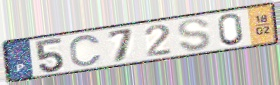0: (217, 12, 246, 47)
2: (144, 23, 173, 58)
5: (33, 36, 66, 74)
7: (107, 26, 136, 63)
C: (68, 33, 104, 67)
S: (176, 17, 213, 53)
